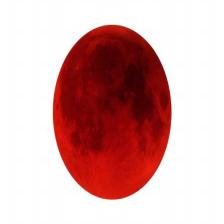red: (55, 35, 172, 197)
